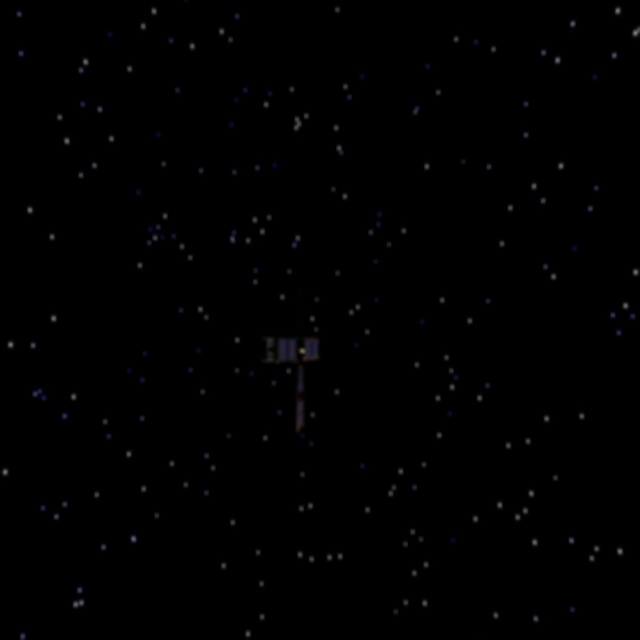medium_debris: (252, 298, 330, 437)
